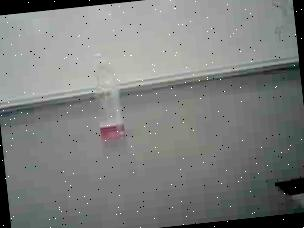hazard: (87, 48, 134, 140)
